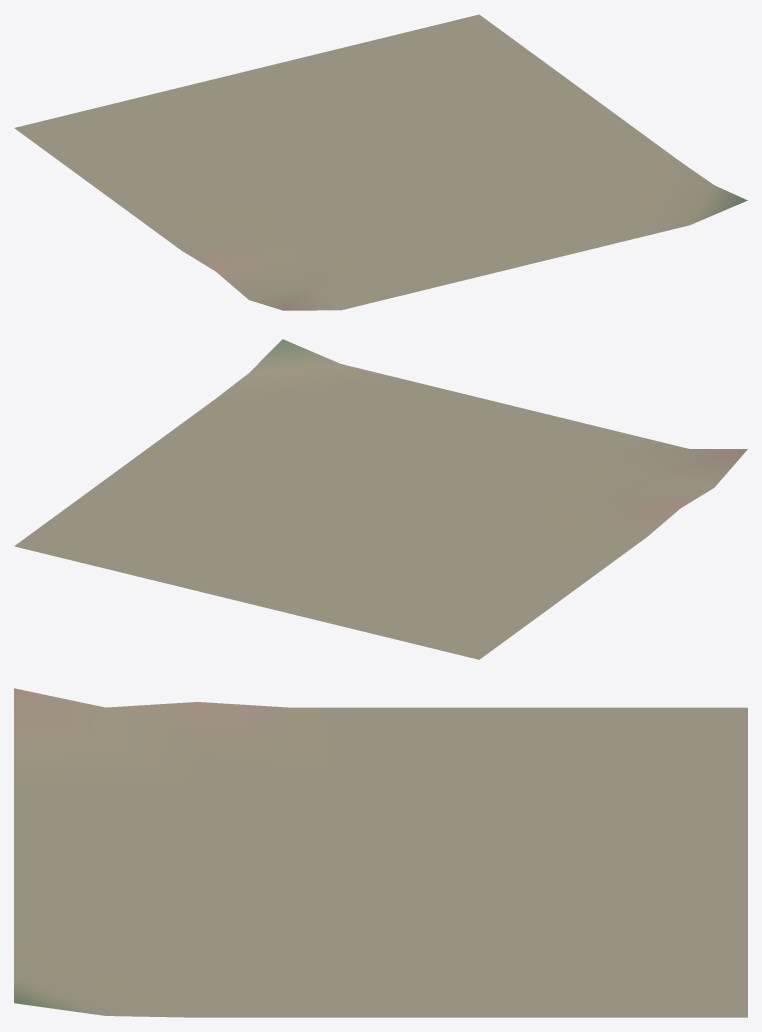
The picture shows the model from 3 angles, top to bottom: view 1: azimuth 30°, elevation 25°; view 2: azimuth 150°, elevation 25°; view 3: azimuth 270°, elevation 25°; orthographic projection. The views are drawn at different scales.
Visible parts, largest first — view 1: Lo; view 2: Lo; view 3: Lo.
Boxes of the visible parts, x1,y1,x2,y2 form: Lo: (14,14,747,310); Lo: (14,339,747,659); Lo: (14,688,747,1017).
Size of the model in its own units: 256 by 7.43 by 256.
